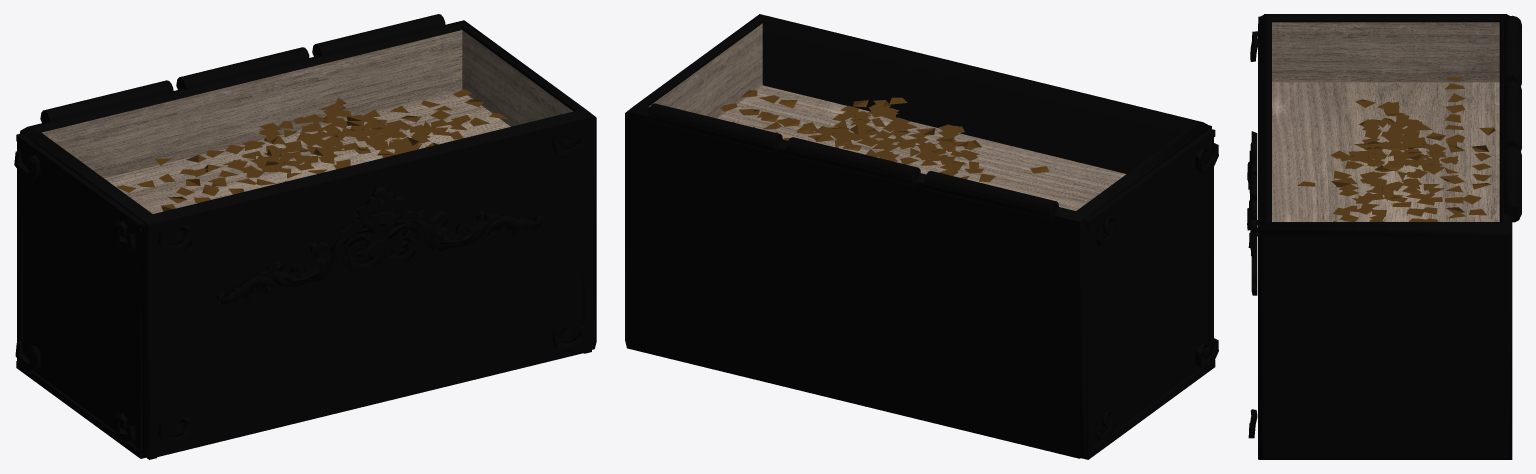
The model's file is Chest.obj.
3 views of the same model, side by side, from view 1: azimuth 30°, elevation 25°; view 2: azimuth 150°, elevation 25°; view 3: azimuth 270°, elevation 25° (orthographic). The views are drawn at different scales.
Size of the model in its own units: 2.08 by 1.06 by 1.09.
